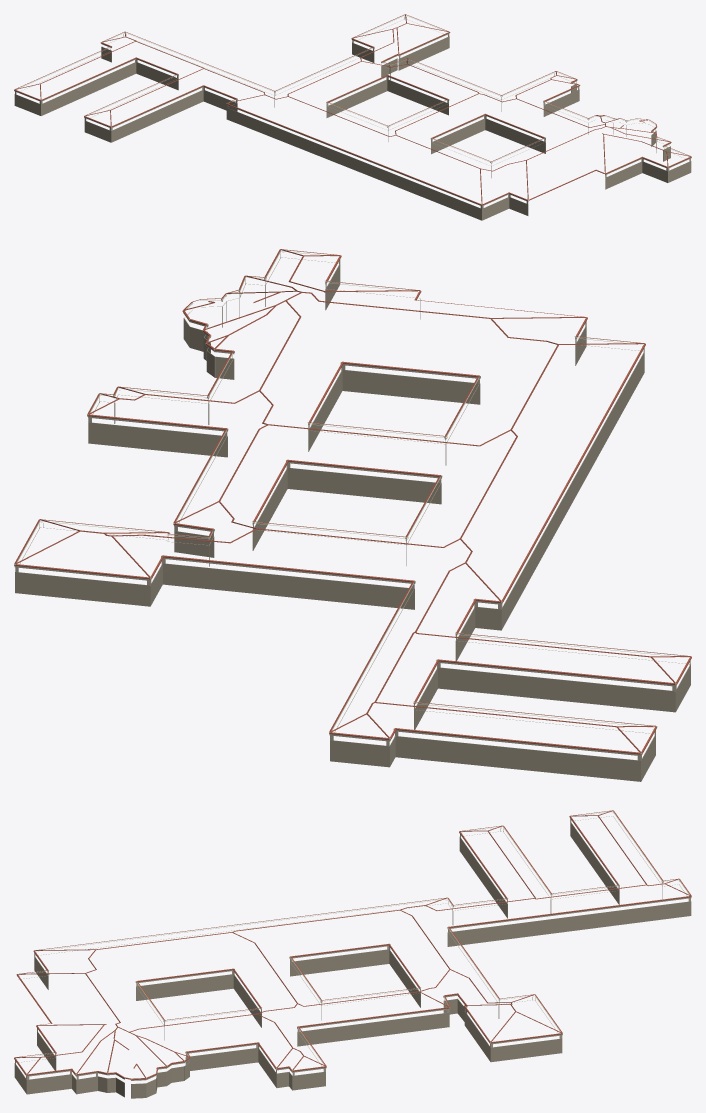
3 renders of one model, top to bottom at view 1: azimuth 30°, elevation 25°; view 2: azimuth 150°, elevation 25°; view 3: azimuth 270°, elevation 25°, orthographic. The views are drawn at different scales.
Parts seen in each view (by area): view 1: detail; view 2: detail; view 3: detail.
Boxes of the visible parts, x1,y1,x2,y2 form: detail: [14, 14, 691, 220]; detail: [14, 249, 691, 781]; detail: [14, 810, 691, 1098].
Size of the model in its own units: 172 by 11.56 by 183.
